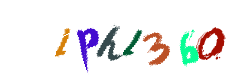0: (164, 0, 244, 80)
3: (100, 0, 180, 80)
6: (148, 0, 228, 80)
H: (79, 0, 159, 80)
L: (47, 0, 127, 80), (100, 0, 180, 80)
P: (76, 0, 156, 80)
